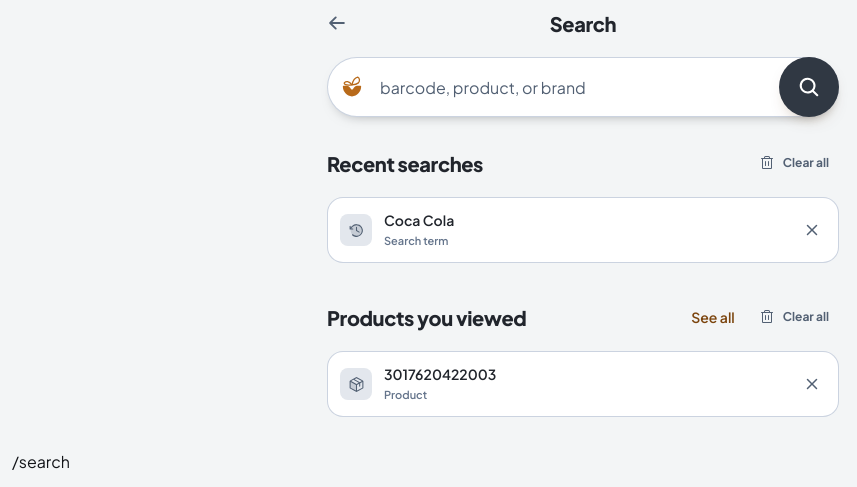
Test: search page › clearing viewed Products leaves recent searches available
This screenshot has width=857, height=487.
Click the button with aria-label "Clear viewed Products": [794, 317] box 749,295 -> 839,339
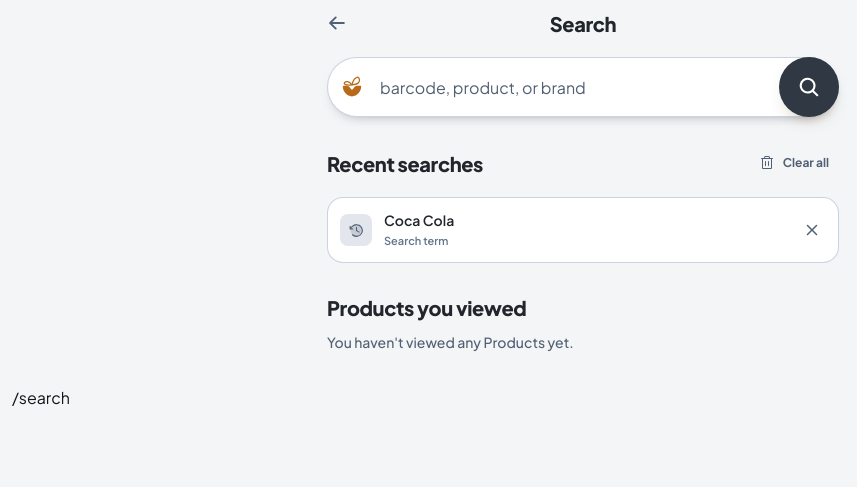
Expected: the button with aria-label "Search again for Coca Cola" is shown, 328,198 -> 792,262
Result: the text "You haven't viewed any Products yet." is shown at 327,333 -> 574,351
